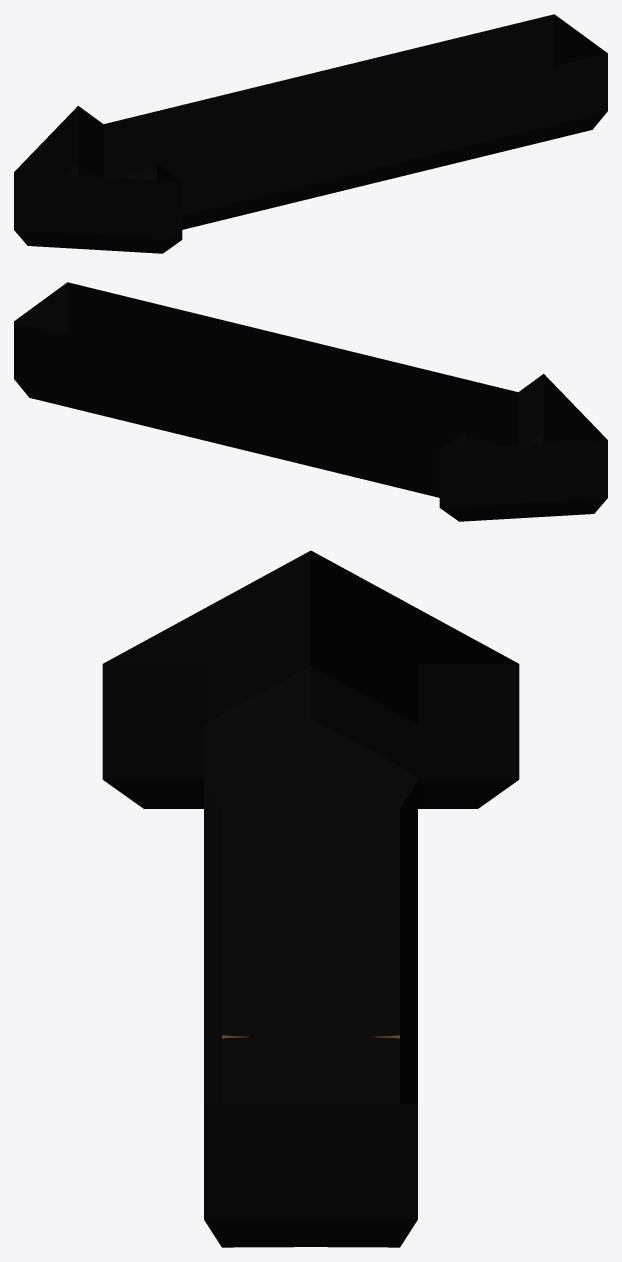
Rendered from arrow02-01.FBX.
The picture shows the model from 3 angles, top to bottom: view 1: azimuth 30°, elevation 25°; view 2: azimuth 150°, elevation 25°; view 3: azimuth 270°, elevation 25°; orthographic projection. The views are drawn at different scales.
Visible parts, largest first — view 1: Box006; view 2: Box006; view 3: Box006.
Part boxes in pixels (bbox=[...]): Box006: bbox=[14, 14, 607, 253]; Box006: bbox=[14, 282, 607, 521]; Box006: bbox=[102, 550, 519, 1247].
Size of the model in its own units: 773 by 100 by 246.
